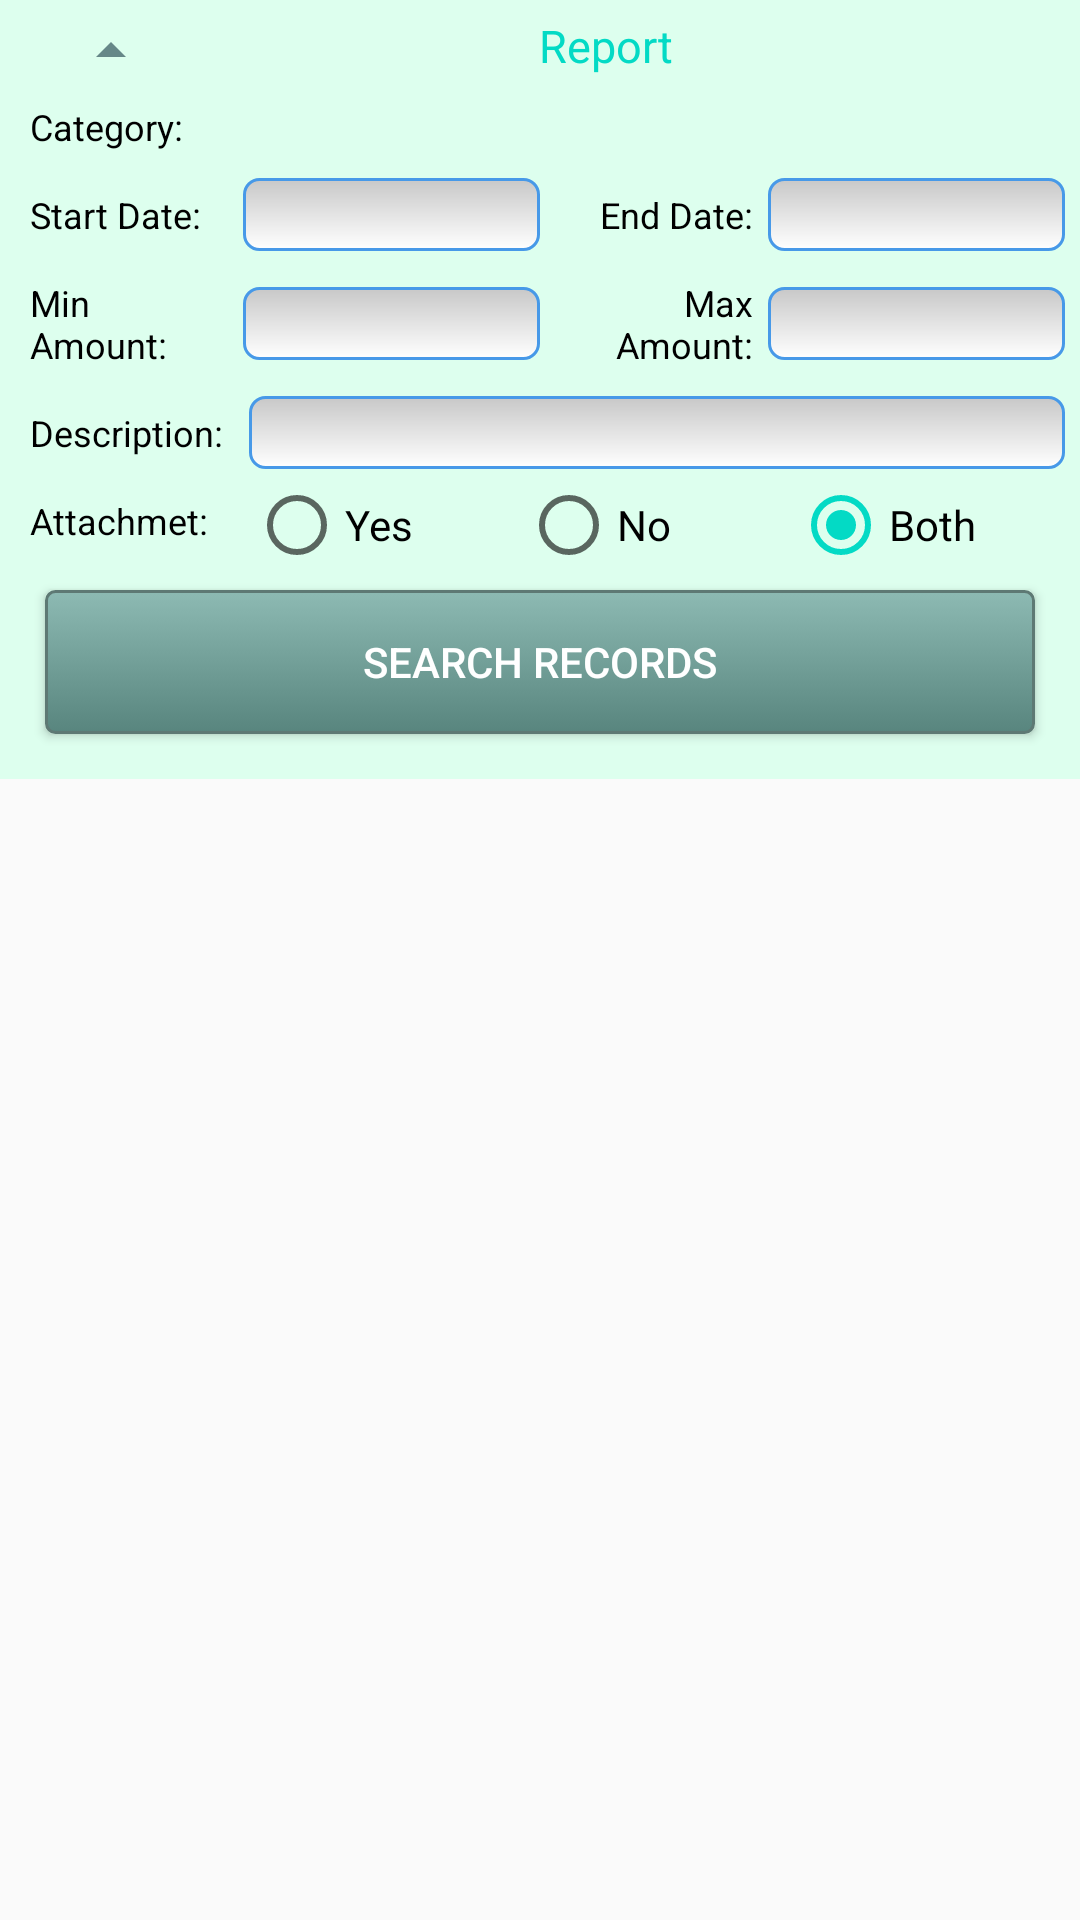

Where to tap for icons on this 1080 x 1920 app screen, as [x,y]:
arrow drop up: [111,49]
